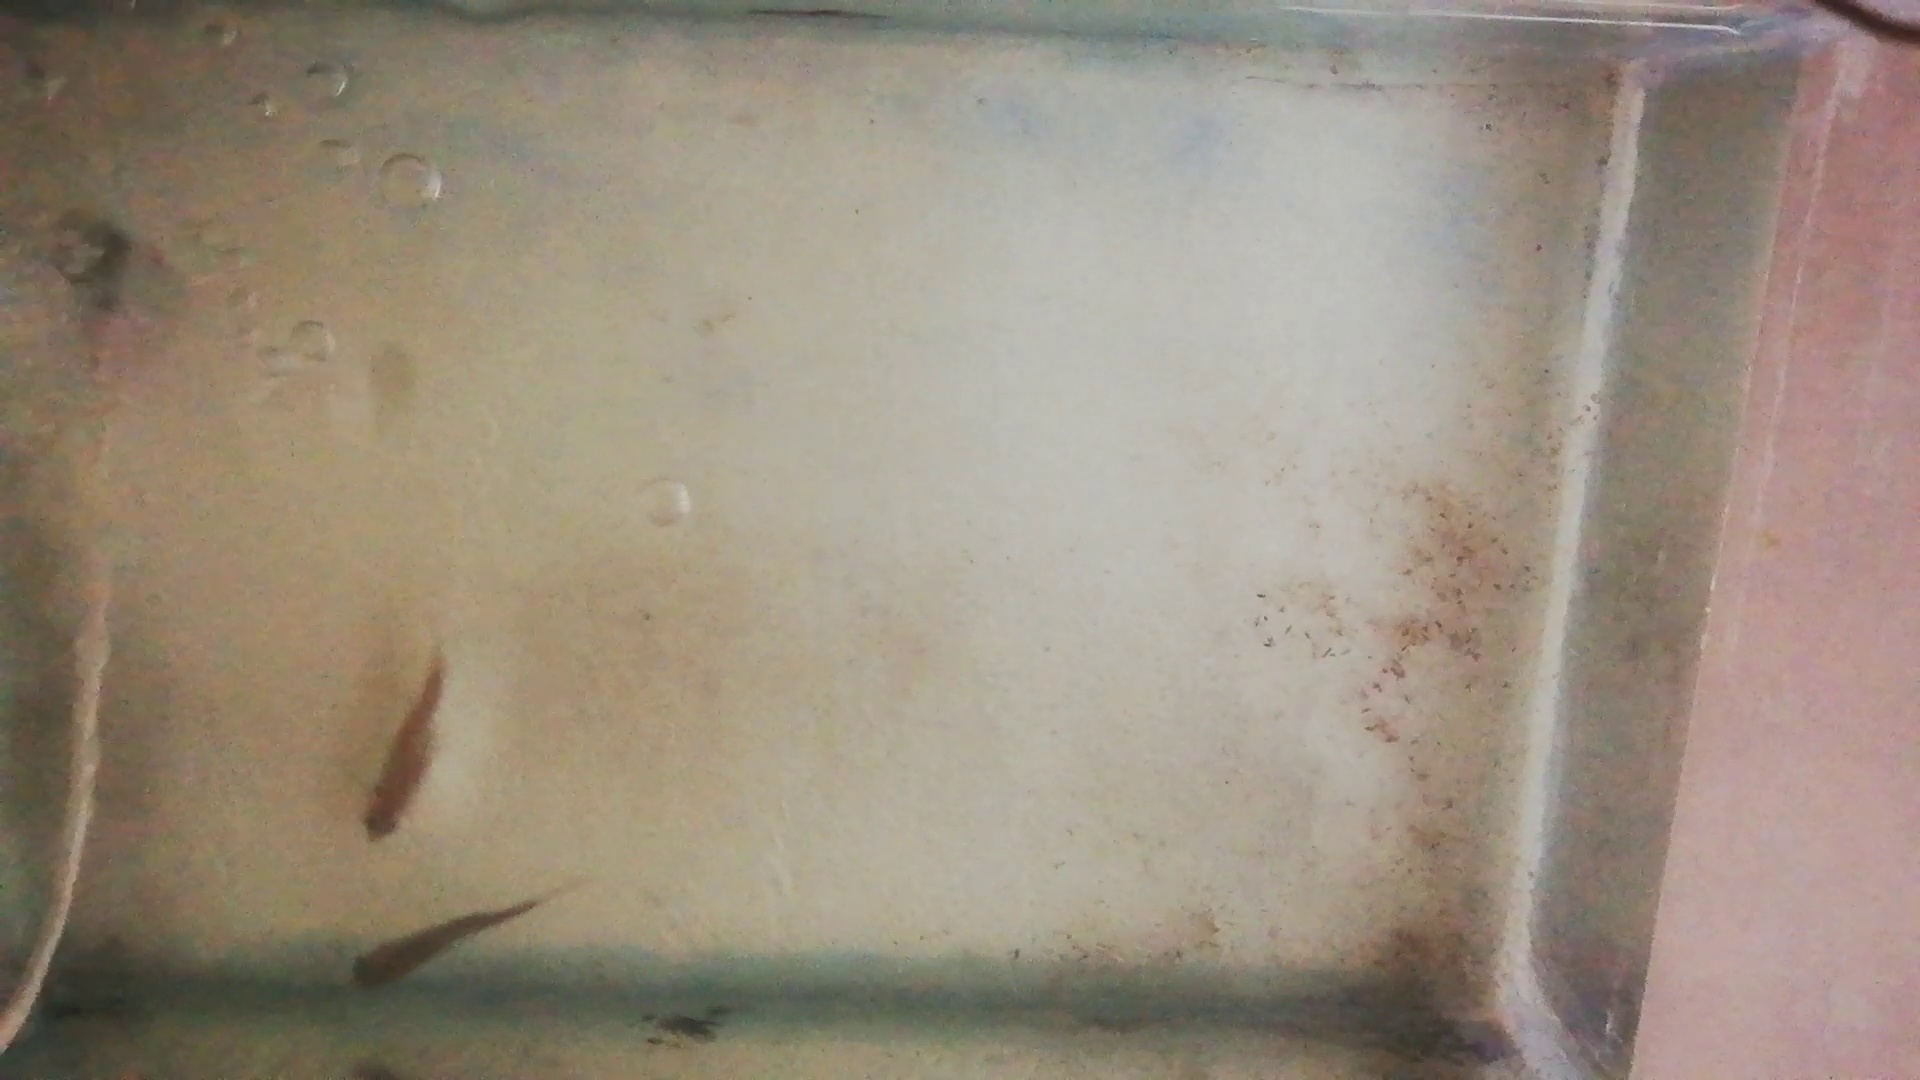fish: (352, 898, 533, 992), (361, 650, 448, 839)
